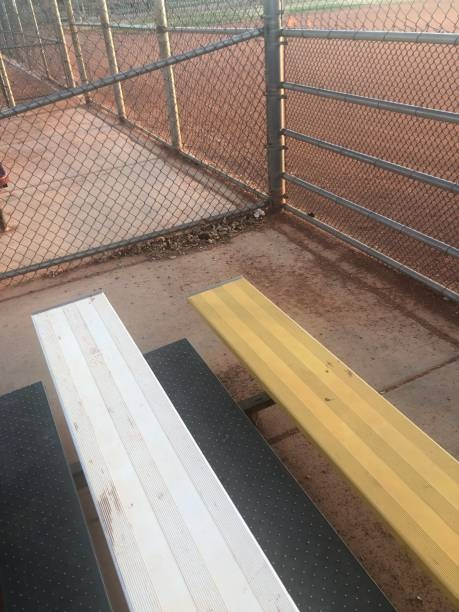bita: (293, 214, 347, 351)
